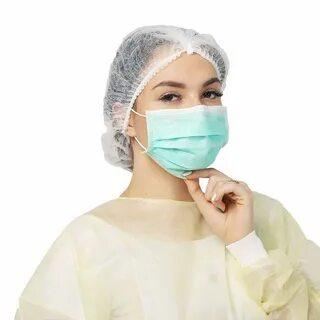hairnet: (70, 11, 244, 167)
mask: (142, 100, 256, 200)
